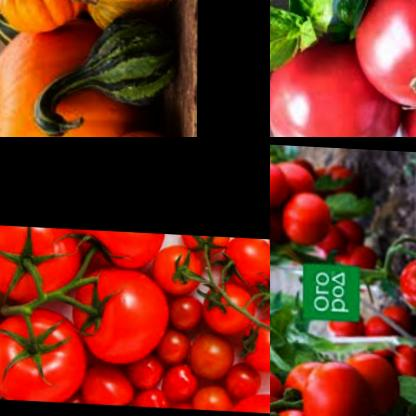pumpkin: (28, 6, 181, 137), (0, 20, 137, 137), (79, 0, 178, 26), (0, 0, 83, 31)
tomato: (270, 39, 403, 137), (69, 261, 172, 362), (0, 294, 89, 401), (355, 0, 416, 112), (0, 224, 79, 303), (295, 350, 375, 416), (77, 227, 161, 271), (326, 297, 407, 341), (281, 186, 333, 253), (347, 343, 398, 408), (184, 324, 238, 381), (278, 356, 327, 414), (150, 235, 202, 289), (200, 279, 255, 330), (78, 357, 136, 404), (221, 233, 270, 282), (274, 152, 318, 203), (357, 305, 401, 350), (129, 343, 167, 390), (241, 312, 270, 371), (223, 357, 263, 398), (334, 235, 374, 274), (157, 326, 192, 368), (387, 335, 416, 384), (169, 294, 205, 333), (163, 358, 195, 400), (394, 250, 416, 309), (270, 152, 294, 205), (182, 232, 230, 258), (228, 382, 270, 411), (250, 265, 270, 325), (193, 377, 229, 408), (318, 224, 350, 252), (135, 384, 170, 406)
